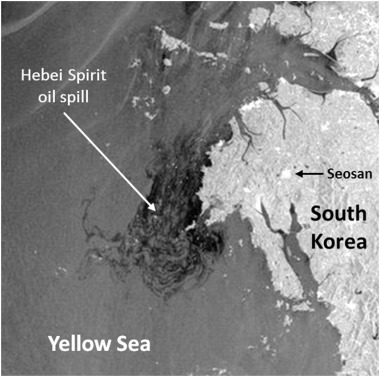anomaly: (102, 142, 233, 297)
